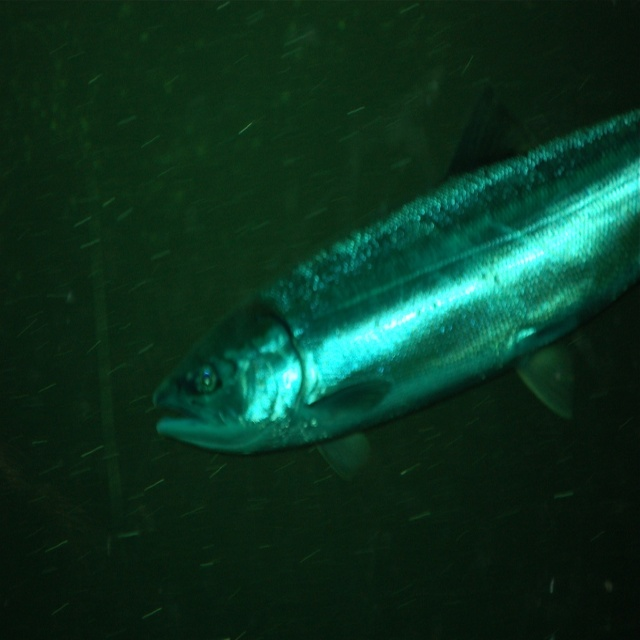Fish: (152, 107, 640, 483)
